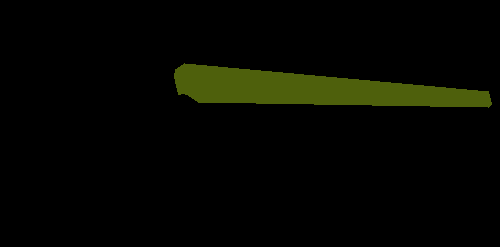Train: (174, 63, 491, 107)
